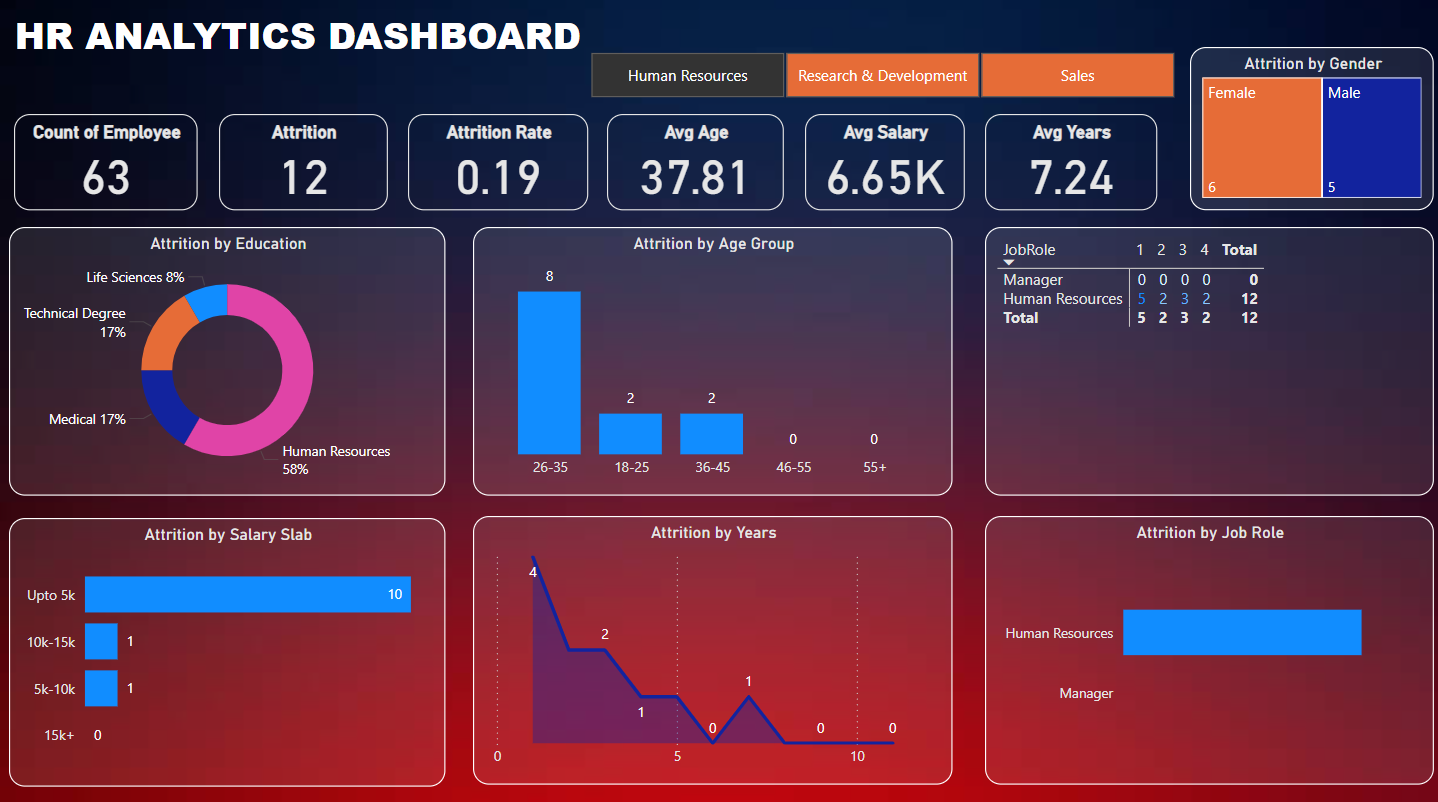

The dashboard page shown, as its layout file describes it:
{"tool":"powerbi","page":{"name":"Page 1","canvas":[1280,720],"ordinal":0},"visuals":[{"type":"card","title":"Count of Employee","fields":{"Values":["CountNonNull(HR_Analytics.EmpID)"]},"box":[15.2,107.7,162.2,84.9],"z":0},{"type":"card","title":"Attrition Rate","fields":{"Values":["HR_Analytics.AttritionRate"]},"box":[362.4,107.7,159.2,84.9],"z":1000},{"type":"card","title":"Attrition","fields":{"Values":["Sum(HR_Analytics.AttritionCal)"]},"box":[195.6,107.7,148.6,84.9],"z":2000},{"type":"card","title":"Avg Age","fields":{"Values":["Avg(HR_Analytics.Age)"]},"box":[538.3,107.7,156.2,84.9],"z":3000},{"type":"card","title":"Avg Years","fields":{"Values":["Avg(HR_Analytics.YearsAtCompany)"]},"box":[871.8,107.7,151.6,84.9],"z":4000},{"type":"card","title":"Avg Salary","fields":{"Values":["Avg(HR_Analytics.MonthlyIncome)"]},"box":[712.6,107.7,141,84.9],"z":5000},{"type":"columnChart","title":"Attrition by Age Group","fields":{"Category":["HR_Analytics.AgeGroup"],"Y":["Sum(HR_Analytics.AttritionCount)"]},"box":[420,207.7,423,236.5],"z":6000},{"type":"donutChart","title":"Attrition by Education","fields":{"Category":["HR_Analytics.EducationField"],"Y":["Sum(HR_Analytics.AttritionCount)"]},"box":[10.6,207.7,385.1,236.5],"z":7000},{"type":"pivotTable","fields":{"Rows":["HR_Analytics.JobRole"],"Columns":["HR_Analytics.JobSatisfaction"],"Values":["Sum(HR_Analytics.AttritionCount)"]},"box":[871.8,207.7,395.7,236.5],"z":8000},{"type":"barChart","title":"Attrition by Salary Slab","fields":{"Category":["HR_Analytics.SalarySlab"],"Y":["Sum(HR_Analytics.AttritionCount)"]},"box":[10.6,464,385.1,236.5],"z":9000},{"type":"barChart","title":"Attrition by Job Role","fields":{"Category":["HR_Analytics.JobRole"],"Y":["Sum(HR_Analytics.AttritionCount)"]},"box":[871.8,462.5,395.7,236.5],"z":10000},{"type":"areaChart","title":"Attrition by Years","fields":{"Category":["HR_Analytics.YearsAtCompany"],"Y":["Sum(HR_Analytics.AttritionCount)"]},"box":[420,462.5,423,236.5],"z":11000},{"type":"treemap","title":"Attrition by Gender","fields":{"Group":["HR_Analytics.Gender"],"Values":["Sum(HR_Analytics.AttritionCount)"]},"box":[1052.3,48.5,215.3,144],"z":11001},{"type":"slicer","fields":{"Values":["HR_Analytics.Department"]},"box":[498.8,47,564,53.1],"z":11002},{"type":"textbox","box":[10.6,10.6,650.5,56.1],"z":11003}]}

Visuals, with their boxes in screenshot pixels (x1, y1, x2, y2), scaled from the page's 1280x720 canvas onto the 1438x802 screenshot:
"Count of Employee" card: (17, 120, 199, 215)
"Attrition Rate" card: (407, 120, 586, 215)
"Attrition" card: (220, 120, 387, 215)
"Avg Age" card: (605, 120, 780, 215)
"Avg Years" card: (979, 120, 1150, 215)
"Avg Salary" card: (801, 120, 959, 215)
"Attrition by Age Group" columnChart: (472, 231, 947, 495)
"Attrition by Education" donutChart: (12, 231, 445, 495)
pivotTable - HR_Analytics.JobRole x HR_Analytics.JobSatisfaction: (979, 231, 1424, 495)
"Attrition by Salary Slab" barChart: (12, 517, 445, 780)
"Attrition by Job Role" barChart: (979, 515, 1424, 779)
"Attrition by Years" areaChart: (472, 515, 947, 779)
"Attrition by Gender" treemap: (1182, 54, 1424, 214)
slicer - HR_Analytics.Department: (560, 52, 1194, 112)
textbox: (12, 12, 743, 74)
